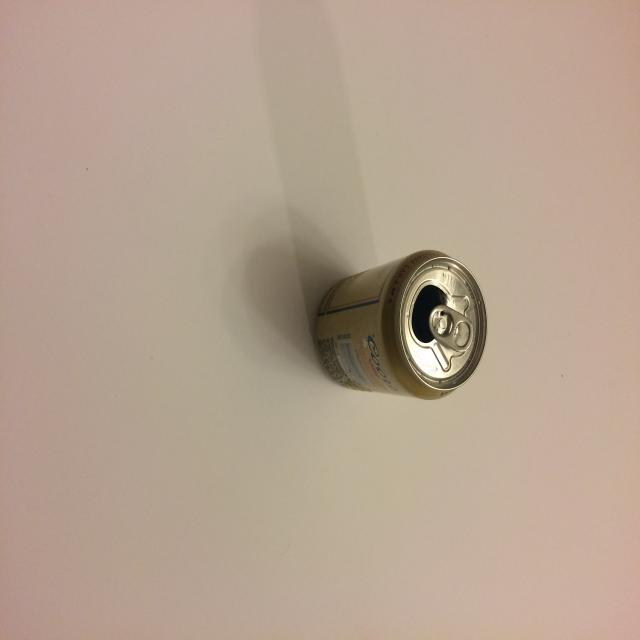metal: (311, 249, 488, 402)
